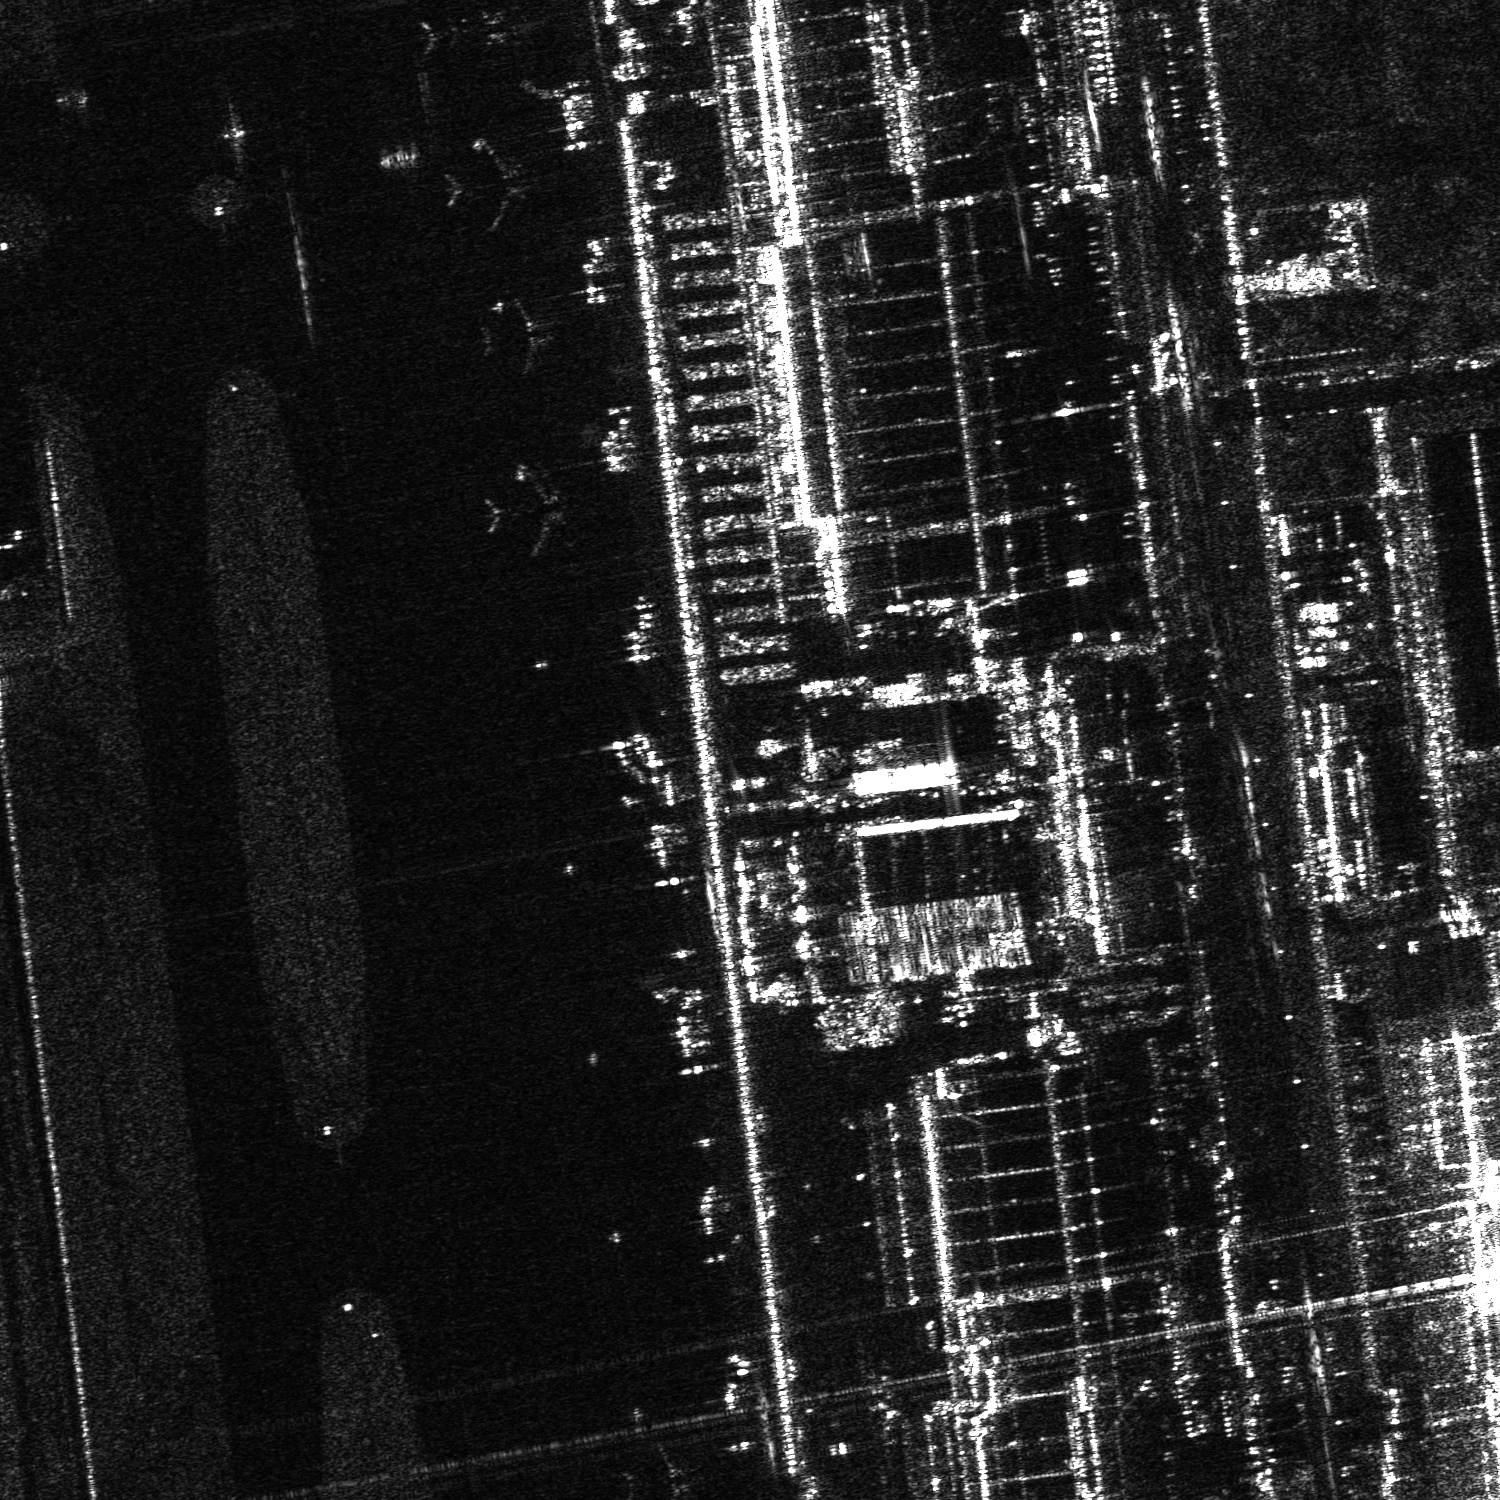Boeing787: (474, 455, 588, 566), (445, 136, 552, 235), (610, 1431, 714, 1499), (482, 293, 560, 382)
